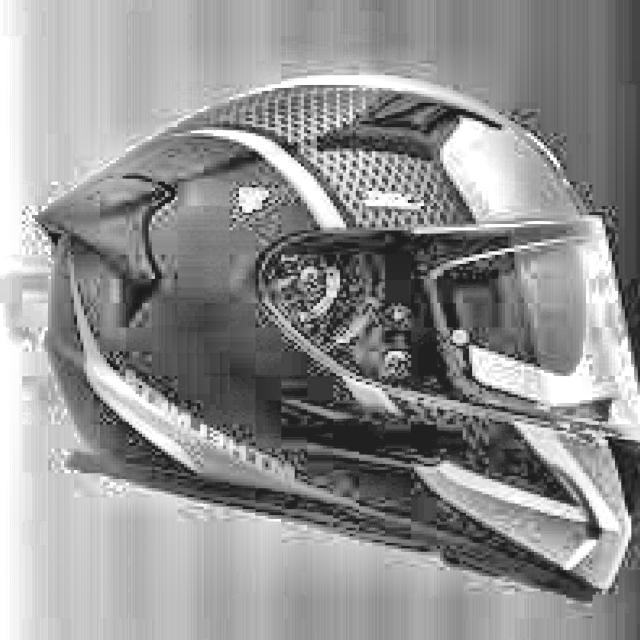Helmet: (17, 71, 640, 605)
